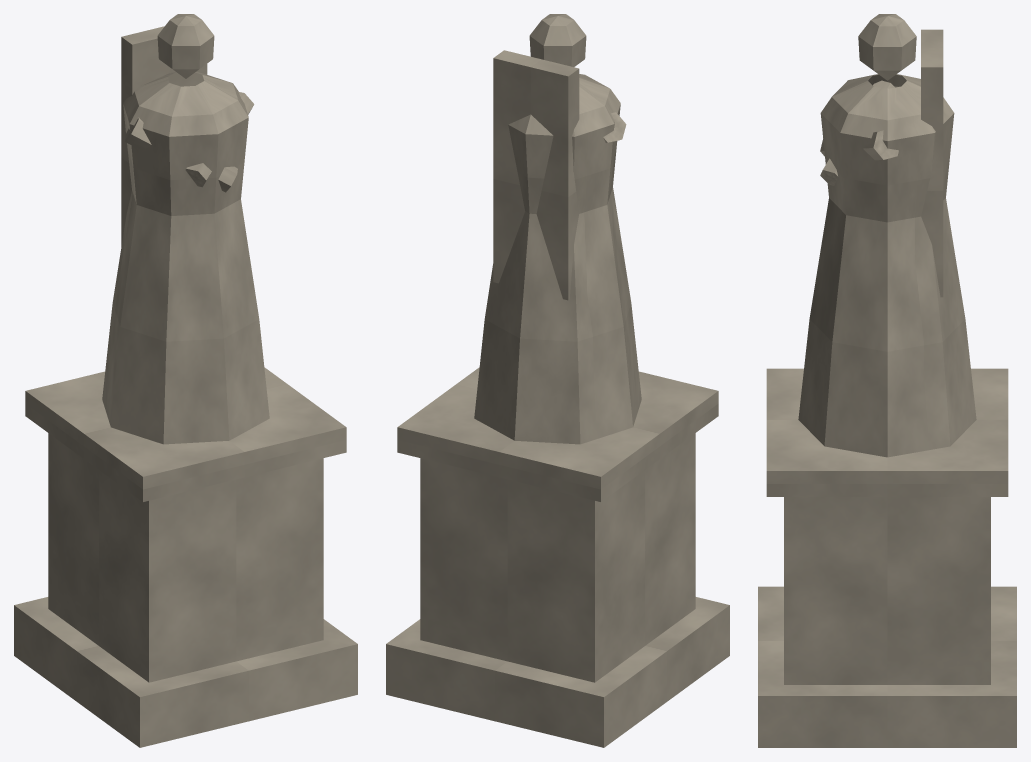
Rendered from Statue_Garden_2_LOD1.gltf.
The picture shows the model from 3 angles, left to right: view 1: azimuth 30°, elevation 25°; view 2: azimuth 150°, elevation 25°; view 3: azimuth 270°, elevation 25°; orthographic projection. The views are drawn at different scales.
Parts seen in each view (by area): view 1: Statue_Garden_2_LOD1; view 2: Statue_Garden_2_LOD1; view 3: Statue_Garden_2_LOD1.
Part boxes in pixels (x1,y1,x2,y2): Statue_Garden_2_LOD1: (14, 14, 357, 747); Statue_Garden_2_LOD1: (386, 14, 729, 747); Statue_Garden_2_LOD1: (758, 14, 1016, 747).
Bounding box in the file's own units: 0.9 × 2.6 × 0.9.
Materials: 1 (1 with a texture image).
